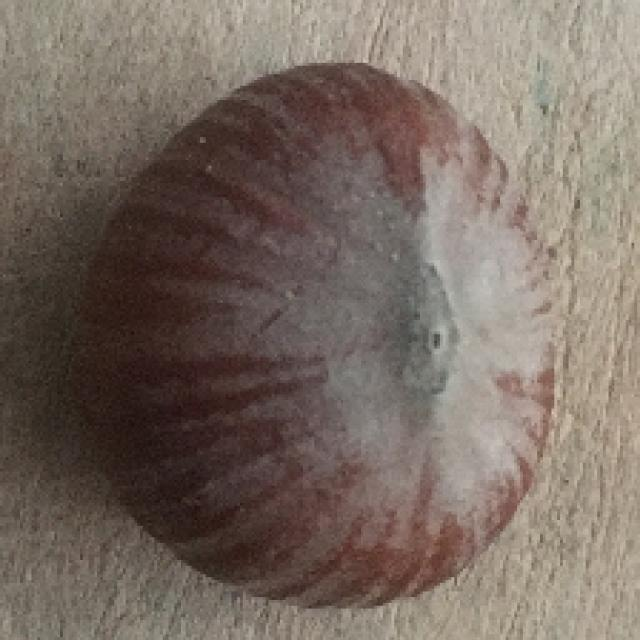qualityHazelnut: (75, 58, 568, 617)
